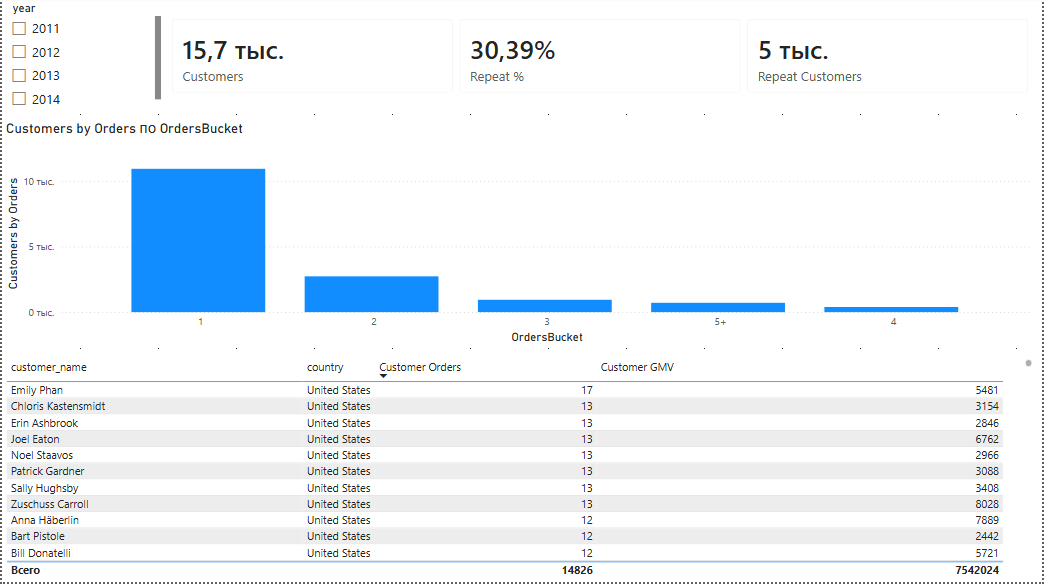

Layout of this report page (visuals, bound fields, positions):
{"tool":"powerbi","page":{"name":"Customers","canvas":[1280,720],"ordinal":1},"visuals":[{"type":"cardVisual","fields":{"Data":["superstore clean_orders.Customers","superstore people.Repeat %","superstore people.Repeat Customers"]},"box":[192,9.4,1088.3,125.2],"z":0},{"type":"slicer","fields":{"Values":["superstore clean_orders.year"]},"box":[0,0,201.4,143],"z":1000},{"type":"clusteredColumnChart","fields":{"Category":["OrderBuckets.OrdersBucket"],"Y":["OrderBuckets.Customers by Orders"]},"box":[0,150.3,1273,280.7],"z":2000},{"type":"tableEx","fields":{"Values":["superstore clean_orders.customer_name","superstore clean_orders.country","superstore clean_orders.Customer Orders","superstore clean_orders.Customer GMV"]},"box":[0,441,1273,279],"z":3000}]}

Visuals, with their boxes in screenshot pixels (x1, y1, x2, y2), scaled from the page's 1280x720 canvas onto the 1045x584 screenshot:
cardVisual - superstore clean_orders.Customers x superstore people.Repeat %: [157, 8, 1044, 109]
slicer - superstore clean_orders.year: [0, 0, 164, 116]
clusteredColumnChart - OrderBuckets.OrdersBucket x OrderBuckets.Customers by Orders: [0, 122, 1039, 350]
tableEx - superstore clean_orders.customer_name x superstore clean_orders.country: [0, 358, 1039, 583]
